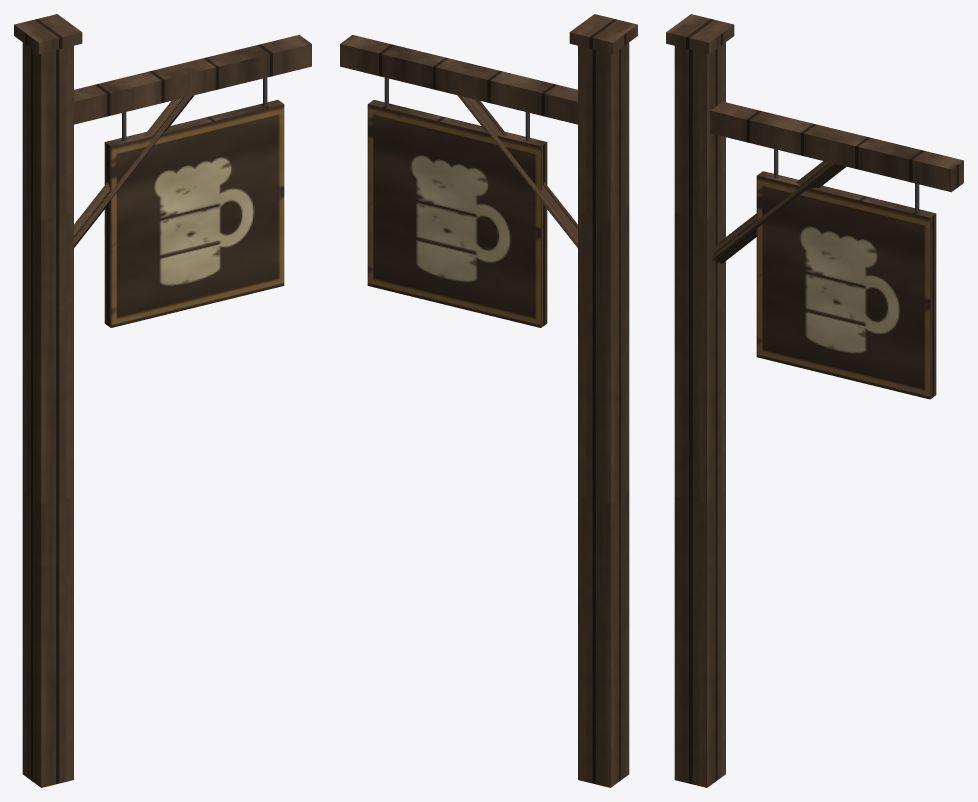
The model's file is Sign_Service_auberge_LOD1.gltf.
3 views of the same model, side by side, from view 1: azimuth 30°, elevation 25°; view 2: azimuth 150°, elevation 25°; view 3: azimuth 330°, elevation 25° (orthographic).
Parts seen in each view (by area): view 1: Sign_Service_auberge_LOD1; view 2: Sign_Service_auberge_LOD1; view 3: Sign_Service_auberge_LOD1.
Boxes of the visible parts, x1,y1,x2,y2 form: Sign_Service_auberge_LOD1: [14, 14, 311, 787]; Sign_Service_auberge_LOD1: [340, 14, 637, 787]; Sign_Service_auberge_LOD1: [666, 14, 963, 787].
Bounding box in the file's own units: 1.03 × 2.64 × 0.16.
3 materials, 3 textured.
